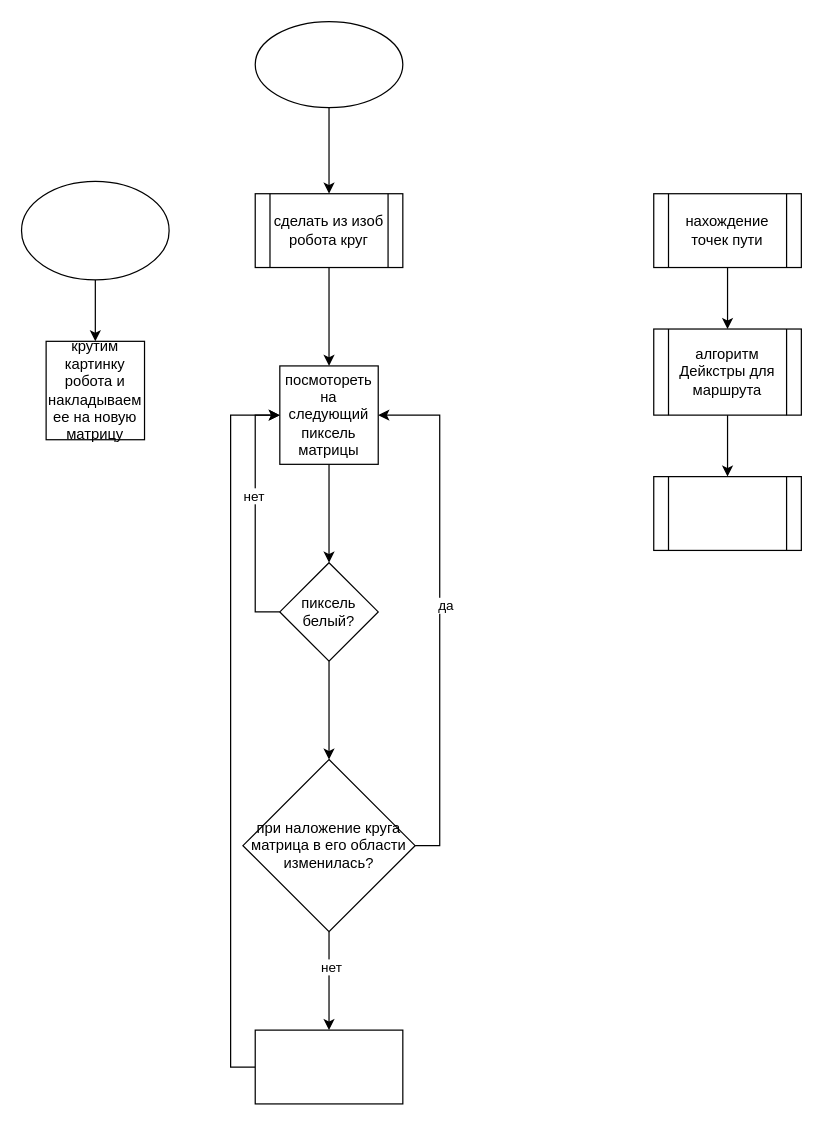
Image size: 823x1125. Some labels were removed from this diagram. Here are the shapes that lost their labels. From the top down, the centre of each, then its label:
At (328,64): "кушаем изображение карты и робота".
At (94,230): "берем пикчу робота".
At (328,1066): "ставим точку пути".
